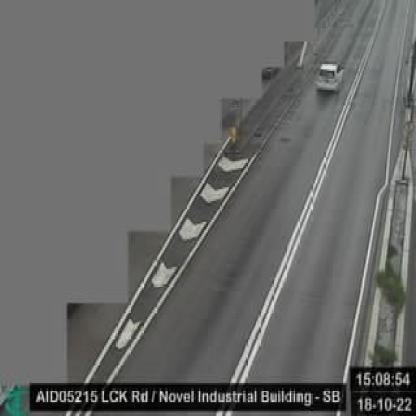Car: (313, 58, 345, 95)
